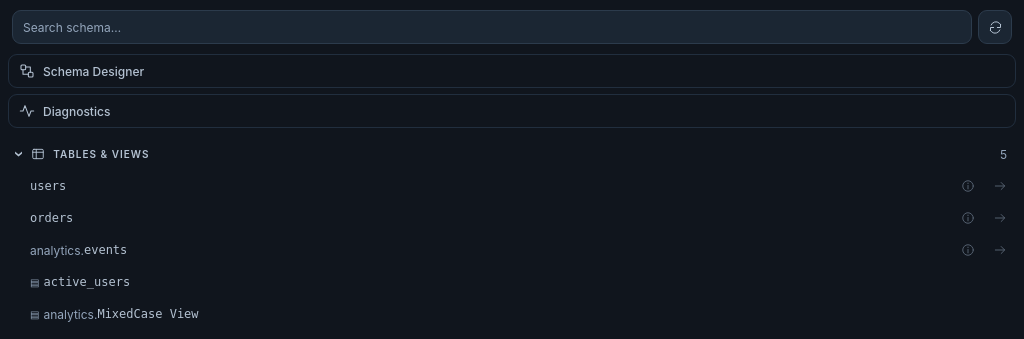
SchemaTree navigation (S05) › search filters tables and views by name across schemas
Type "ACTIVE" into the search field named "Search schema objects".
click(492, 27); type("ACTIVE")  # box x1=12 y1=10 x2=972 y2=44
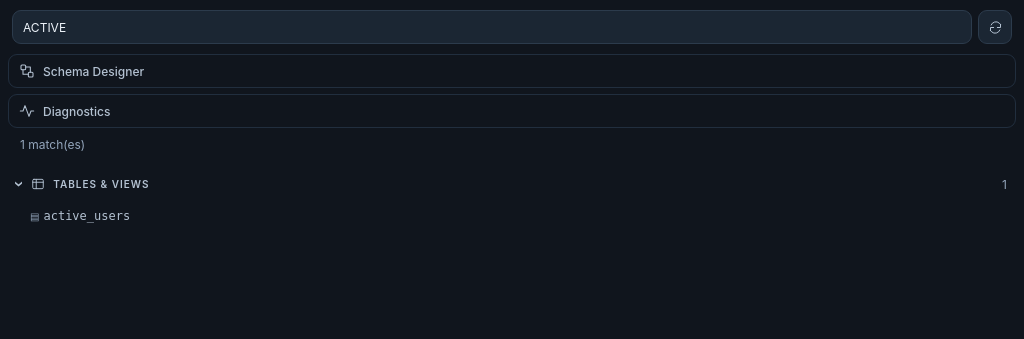
expect the text "active_users" is shown: met, box x1=44 y1=209 x2=130 y2=223
expect the text "1 match(es)" is shown: met, box x1=20 y1=137 x2=85 y2=152
expect the button "orders" is gone: met
Replace the text in the search field named "Search schema objects" with "analytics." at point(492, 27), box x1=12 y1=10 x2=972 y2=44
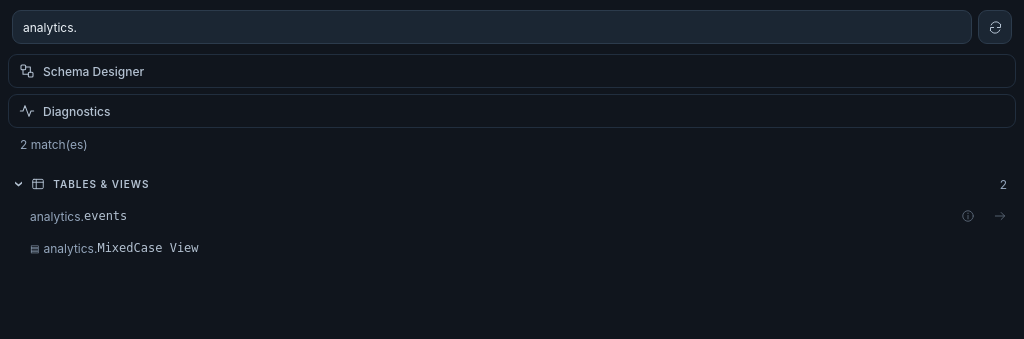
expect the text "events" is shown: met, box x1=84 y1=209 x2=127 y2=223
expect the text "MixedCase View" is shown: met, box x1=97 y1=241 x2=199 y2=255
expect the button "active_users" is gone: met
Replace the text in the search field named "Search schema objects" with "zzz-nothing" at point(492, 27), box x1=12 y1=10 x2=972 y2=44
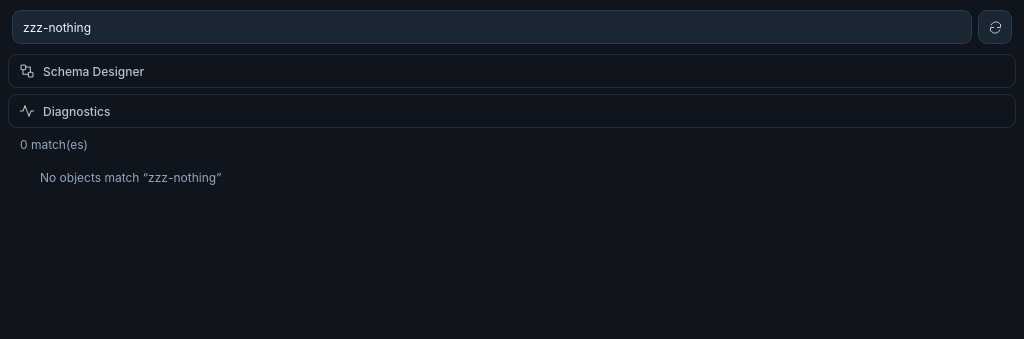
expect the text "No objects match “zzz-nothing”" is shown: met, box x1=40 y1=170 x2=222 y2=185
